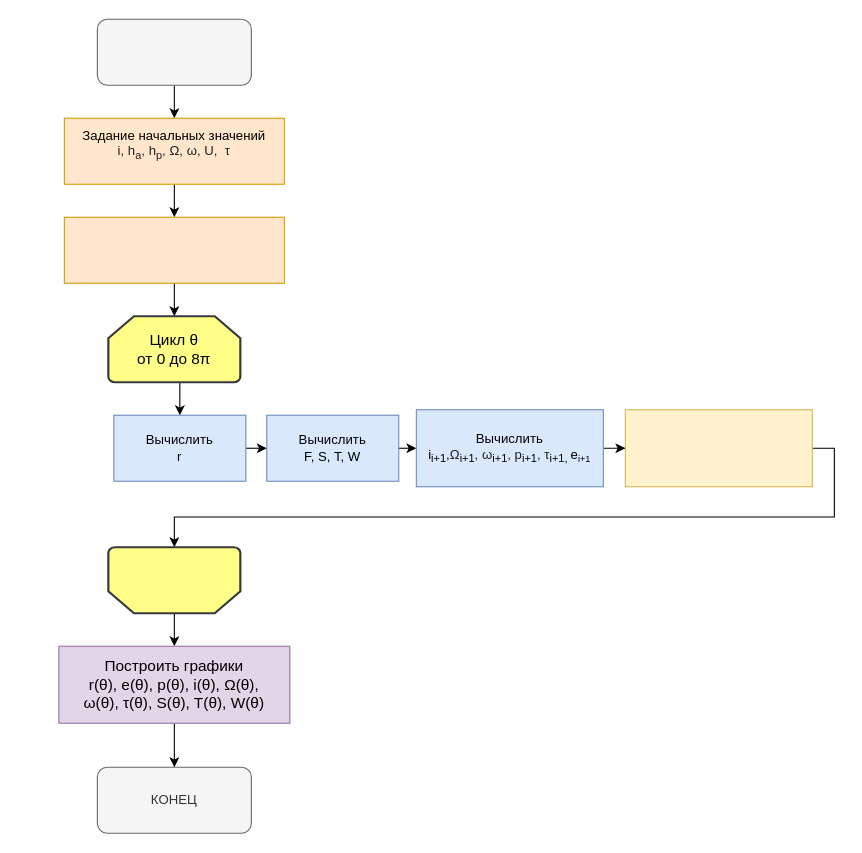
This 862x853 diagram has some shape labels left out. The centre of each missing label's shape, as x and y in pixels:
"Вычисление начальных значений r, a, e, p" belongs at (173,249).
"Запомнить i i+1 , Ω i+1 , ω i+1 , p i+1 , τ i+1, e i+1 , r, S, T, W" belongs at (718,448).
"НАЧАЛО" belongs at (173,51).
"Увеличить θ на 0.01 Цикл θ" belongs at (174,580).
